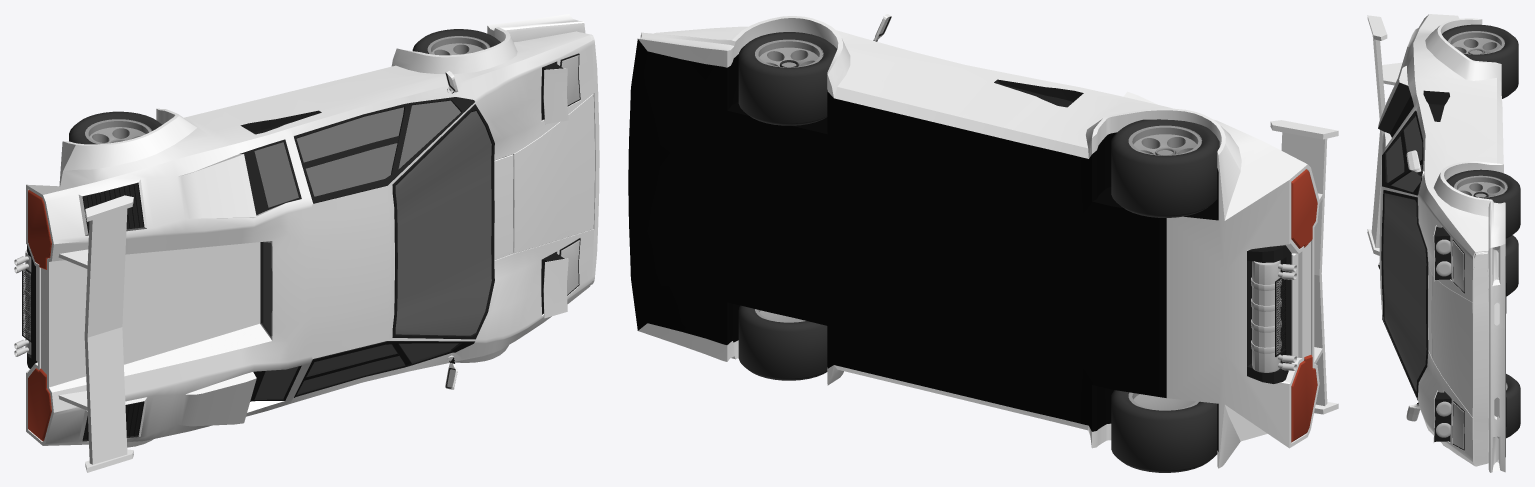
The model's file is countach.glb.
The picture shows the model from 3 angles, left to right: view 1: azimuth 30°, elevation 25°; view 2: azimuth 150°, elevation 25°; view 3: azimuth 270°, elevation 25°; orthographic projection. The views are drawn at different scales.
Visible parts, largest first — view 1: Cube, Cube.002, Cube.005, Cylinder.007, Cylinder.005; view 2: Cube, Cylinder.007, Cylinder.005, Cube.002, Cylinder.003, Plane; view 3: Cube, Cylinder.007, Cylinder.005, Cube.002, Cube.005, Plane.001.
Boxes of the visible parts, x1,y1,x2,y2 form: Cube: [22, 14, 599, 447]; Cube.002: [58, 195, 133, 472]; Cube.005: [541, 62, 568, 318]; Cylinder.007: [69, 111, 161, 144]; Cylinder.005: [412, 29, 500, 55]; Cube: [628, 16, 1319, 468]; Cylinder.007: [1111, 119, 1219, 472]; Cylinder.005: [738, 32, 837, 380]; Cube.002: [1270, 120, 1338, 414]; Cylinder.003: [1251, 260, 1281, 372]; Plane: [1276, 279, 1285, 355]; Cube: [1378, 14, 1506, 472]; Cylinder.007: [1442, 24, 1518, 296]; Cylinder.005: [1446, 169, 1520, 438]; Cube.002: [1367, 15, 1402, 255]; Cube.005: [1433, 225, 1451, 442]; Plane.001: [1406, 150, 1424, 421].
Size of the model in its own units: 2.82 by 1.45 by 0.7422.
